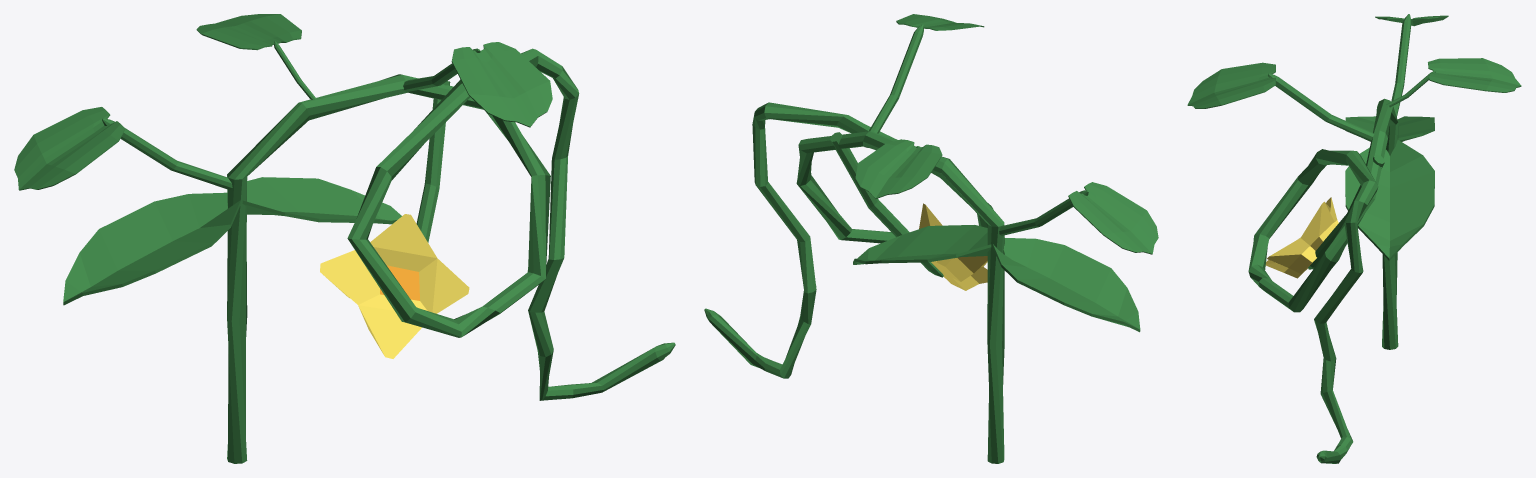
Rendered from pumpkin_adult.fbx.
3 views of the same model, side by side, from view 1: azimuth 30°, elevation 25°; view 2: azimuth 150°, elevation 25°; view 3: azimuth 270°, elevation 25° (orthographic). The views are drawn at different scales.
Visible parts, largest first — view 1: pumpkin_adult; view 2: pumpkin_adult; view 3: pumpkin_adult.
Boxes of the visible parts, x1=… form: pumpkin_adult: x1=14, y1=14, x2=675, y2=463; pumpkin_adult: x1=704, y1=14, x2=1158, y2=463; pumpkin_adult: x1=1187, y1=14, x2=1521, y2=463.
Size of the model in its own units: 88.26 by 60.5 by 54.26.
